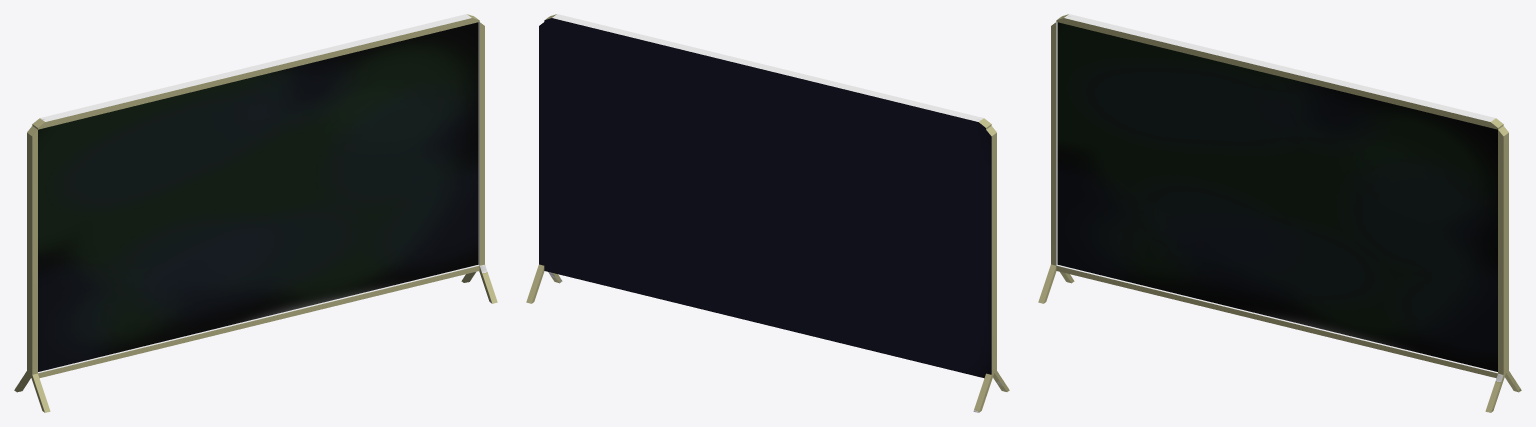
File: TVModel.fbx
The picture shows the model from 3 angles, left to right: view 1: azimuth 30°, elevation 25°; view 2: azimuth 150°, elevation 25°; view 3: azimuth 330°, elevation 25°; orthographic projection.
Parts seen in each view (by area): view 1: TV; view 2: TV; view 3: TV.
Part boxes in pixels (x1,y1,x2,y2): TV: (14, 14, 497, 412); TV: (526, 14, 1009, 412); TV: (1038, 14, 1521, 412).
Bounding box in the file's own units: 822 × 483 × 97.25.
Materials: 1 (1 with a texture image).
